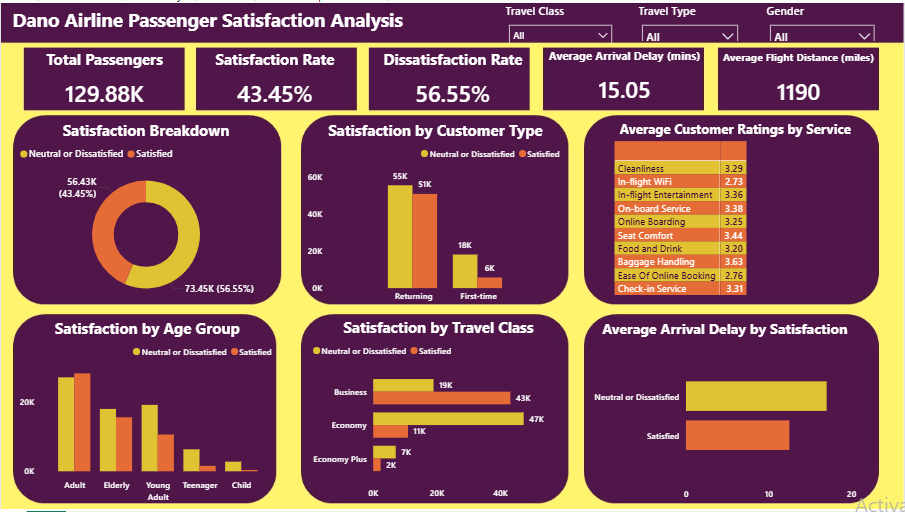

Layout of this report page (visuals, bound fields, positions):
{"tool":"powerbi","page":{"name":"Page 1","canvas":[1280,720],"ordinal":0},"visuals":[{"type":"cardVisual","title":"Total Passengers","fields":{"Data":["Measure_Table.Total_Passengers"]},"box":[34,65.2,225.4,93.5],"z":0},{"type":"cardVisual","title":"Average Flight Distance (miles)","fields":{"Data":["Measure_Table.Average Flight Distance"]},"box":[1017.6,66.6,225.4,93.5],"z":1000},{"type":"cardVisual","title":"Satisfaction Rate","fields":{"Data":["Measure_Table.Satisfaction Rate"]},"box":[276.4,65.2,223.9,93.5],"z":2000},{"type":"cardVisual","title":"Average Arrival Delay (mins)","fields":{"Data":["Measure_Table.Average Arrival Delay"]},"box":[770.6,64.2,225.5,92.8],"z":3000},{"type":"cardVisual","title":"Dissatisfaction Rate","fields":{"Data":["Measure_Table.Dissatisfaction Rate"]},"box":[528.7,65.2,223.9,93.5],"z":4000},{"type":"donutChart","title":"Satisfaction Breakdown","fields":{"Category":["Airline data - airline_passenger_satisfaction.Satisfaction"],"Y":["CountNonNull(Airline data - airline_passenger_satisfaction.ID)"]},"box":[21.3,165.8,368.5,267.9],"z":5000},{"type":"clusteredBarChart","title":"Satisfaction by Travel Class","fields":{"Series":["Airline data - airline_passenger_satisfaction.Satisfaction"],"Category":["Airline data - airline_passenger_satisfaction.Class"],"Y":["CountNonNull(Airline data - airline_passenger_satisfaction.ID)"]},"box":[436.7,445.2,366.7,268.3],"z":6000},{"type":"clusteredColumnChart","title":"Satisfaction by Customer Type","fields":{"Category":["Airline data - airline_passenger_satisfaction.Customer Type"],"Y":["CountNonNull(Airline data - airline_passenger_satisfaction.ID)"],"Series":["Airline data - airline_passenger_satisfaction.Satisfaction"]},"box":[429.5,165.5,372.4,268.3],"z":7000},{"type":"clusteredColumnChart","title":"Satisfaction by Age Group","fields":{"Category":["Airline data - airline_passenger_satisfaction.Age Grade"],"Y":["CountNonNull(Airline data - airline_passenger_satisfaction.ID)"],"Series":["Airline data - airline_passenger_satisfaction.Satisfaction"]},"box":[21.4,446.6,372.4,268.3],"z":8000},{"type":"pivotTable","title":"Average Customer Ratings by Service","fields":{"Values":["Measure_Table.Cleanliness","Measure_Table.In-flight WiFi","Measure_Table.In-flight Entertainment","Measure_Table.On-board Service","Measure_Table.Online Boarding","Measure_Table.Seat Comfort","Measure_Table.Food and Drink","Measure Table.Baggage Handling","Measure Table.Ease Of Online Booking","Measure Table.Check-in Service"]},"box":[864.7,165.5,352.5,258.3],"z":9000},{"type":"barChart","title":" Average Arrival Delay by Satisfaction ","fields":{"Y":["Measure Table.Average Arrival Delay"],"Category":["Passenger_Satisfaction.Satisfaction"]},"box":[834.9,446.9,382.6,268.2],"z":10000},{"type":"textbox","box":[11.4,0,573.6,64.2],"z":11000},{"type":"slicer","title":"Gender","fields":{"Values":["Passenger_Satisfaction.Gender"]},"box":[1079.8,0,168,53.6],"z":12000},{"type":"slicer","title":"Travel Type","fields":{"Values":["Passenger_Satisfaction.Type of Travel"]},"box":[899.2,0,155.5,53.6],"z":13000},{"type":"slicer","title":"Travel Class","fields":{"Values":["Passenger_Satisfaction.Class"]},"box":[709.7,0,166.3,57.2],"z":14000}]}

Visuals, with their boxes in screenshot pixels (x1, y1, x2, y2), scaled from the page's 1280x720 canvas onto the 905x512 screenshot:
"Total Passengers" cardVisual: [left=24, top=46, right=183, bottom=113]
"Average Flight Distance (miles)" cardVisual: [left=719, top=47, right=879, bottom=114]
"Satisfaction Rate" cardVisual: [left=195, top=46, right=354, bottom=113]
"Average Arrival Delay (mins)" cardVisual: [left=545, top=46, right=704, bottom=112]
"Dissatisfaction Rate" cardVisual: [left=374, top=46, right=532, bottom=113]
"Satisfaction Breakdown" donutChart: [left=15, top=118, right=276, bottom=308]
"Satisfaction by Travel Class" clusteredBarChart: [left=309, top=317, right=568, bottom=507]
"Satisfaction by Customer Type" clusteredColumnChart: [left=304, top=118, right=567, bottom=308]
"Satisfaction by Age Group" clusteredColumnChart: [left=15, top=318, right=278, bottom=508]
"Average Customer Ratings by Service" pivotTable: [left=611, top=118, right=861, bottom=301]
" Average Arrival Delay by Satisfaction " barChart: [left=590, top=318, right=861, bottom=509]
textbox: [left=8, top=0, right=414, bottom=46]
"Gender" slicer: [left=763, top=0, right=882, bottom=38]
"Travel Type" slicer: [left=636, top=0, right=746, bottom=38]
"Travel Class" slicer: [left=502, top=0, right=619, bottom=41]
